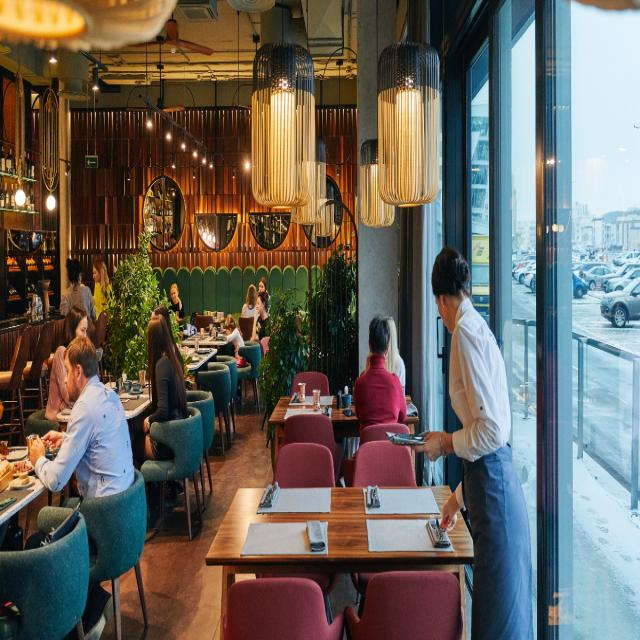person: (420, 242, 540, 640), (33, 344, 137, 531), (135, 312, 192, 482), (356, 317, 411, 441), (49, 300, 100, 407), (58, 262, 92, 332), (88, 243, 118, 304), (164, 277, 192, 321), (236, 277, 258, 326), (258, 291, 276, 336), (257, 266, 275, 304)
